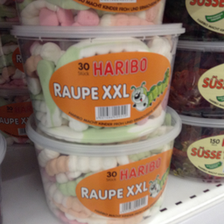candy: (11, 26, 196, 144), (26, 130, 186, 224)
